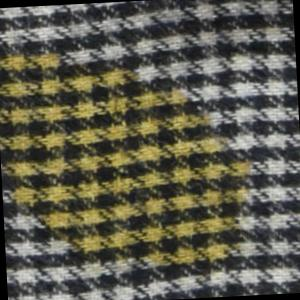Stain: (1, 31, 256, 288)
